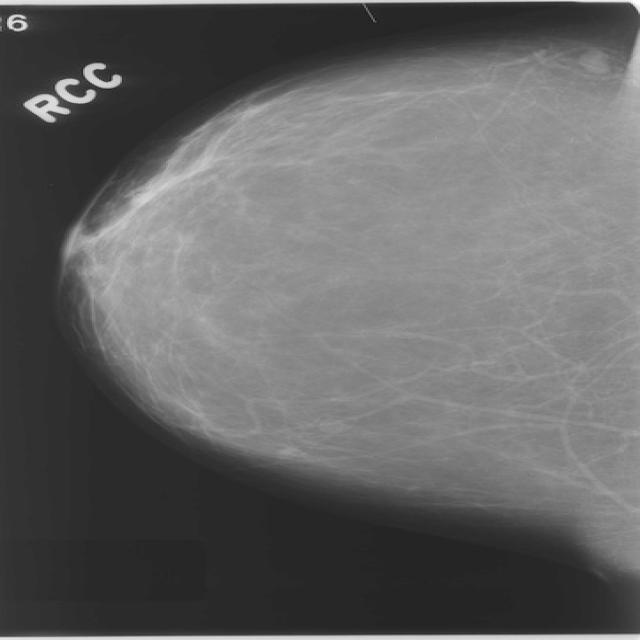tumour: (575, 45, 610, 74)
